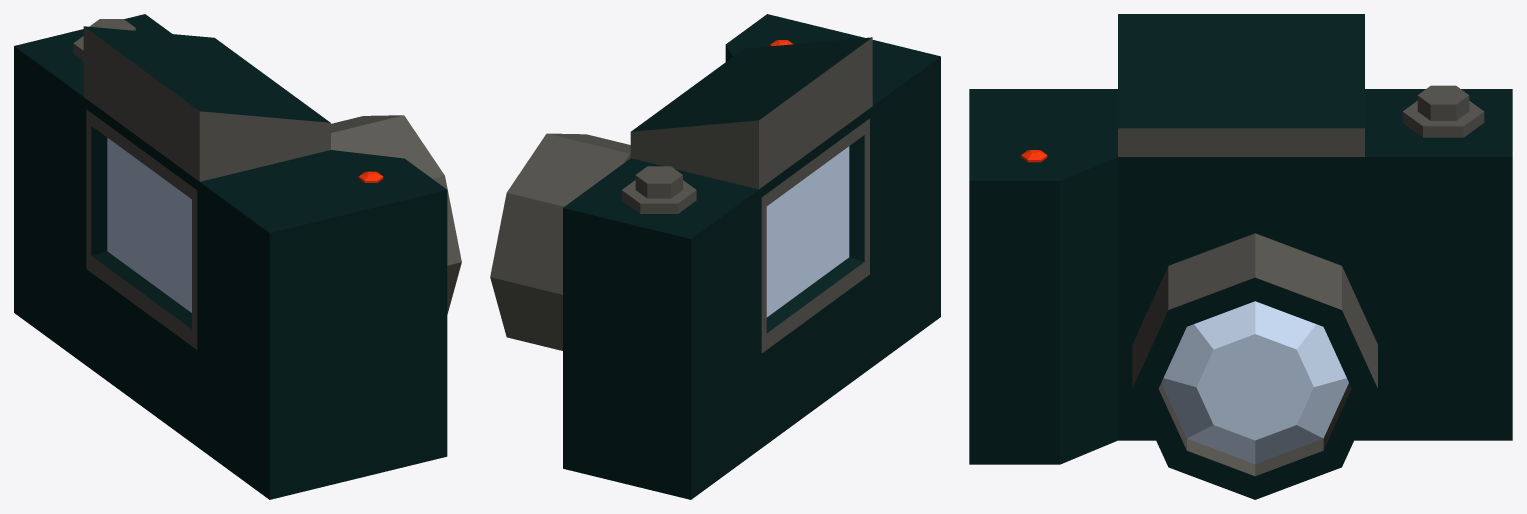
The model's file is camera.fbx.
The picture shows the model from 3 angles, left to right: view 1: azimuth 30°, elevation 25°; view 2: azimuth 150°, elevation 25°; view 3: azimuth 270°, elevation 25°; orthographic projection. The views are drawn at different scales.
Parts seen in each view (by area): view 1: Cube; view 2: Cube; view 3: Cube.
Boxes of the visible parts, box(x1,y1,x2,y2) form: Cube: box(14, 14, 461, 499); Cube: box(490, 14, 940, 499); Cube: box(969, 14, 1512, 499).
Bounding box in the file's own units: 122 × 146 × 200.
